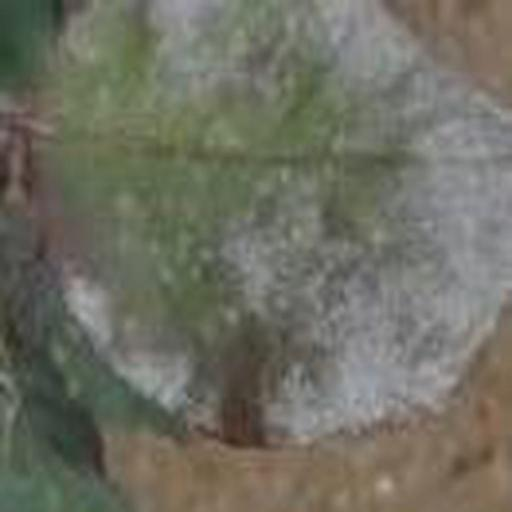powdery_mildew: (36, 0, 512, 447)
